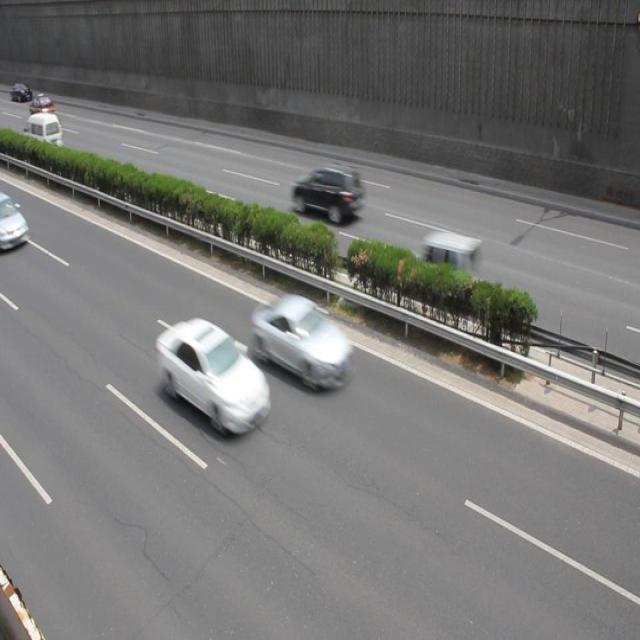car: (156, 314, 272, 436), (250, 292, 350, 391), (291, 162, 363, 223), (408, 232, 481, 292), (1, 190, 29, 251), (29, 108, 60, 136)
truck: (23, 112, 64, 156)
